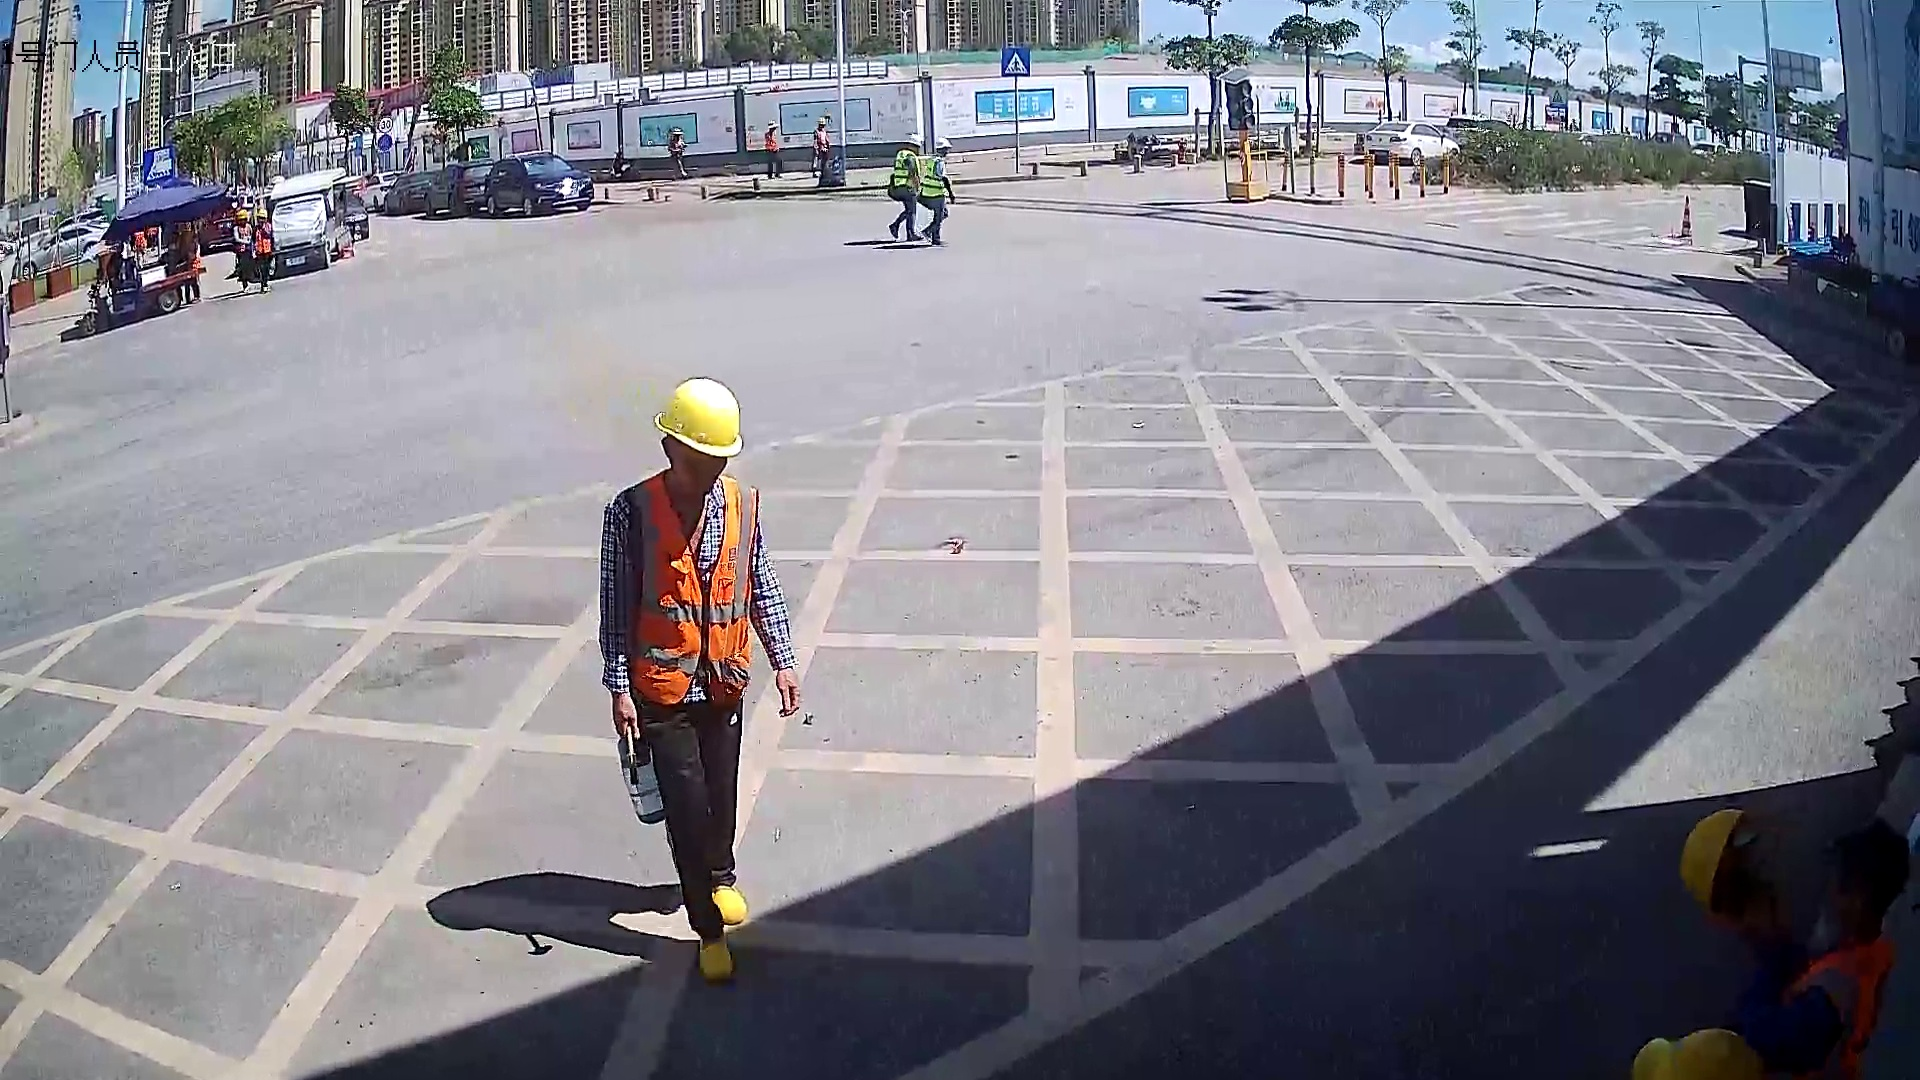person: (595, 375, 804, 985), (916, 136, 955, 249), (887, 132, 924, 243)
reflective_vest: (629, 467, 761, 706), (893, 148, 921, 190), (921, 156, 946, 199)
safety_helmet: (652, 374, 745, 498), (935, 136, 953, 157), (907, 132, 926, 153)
